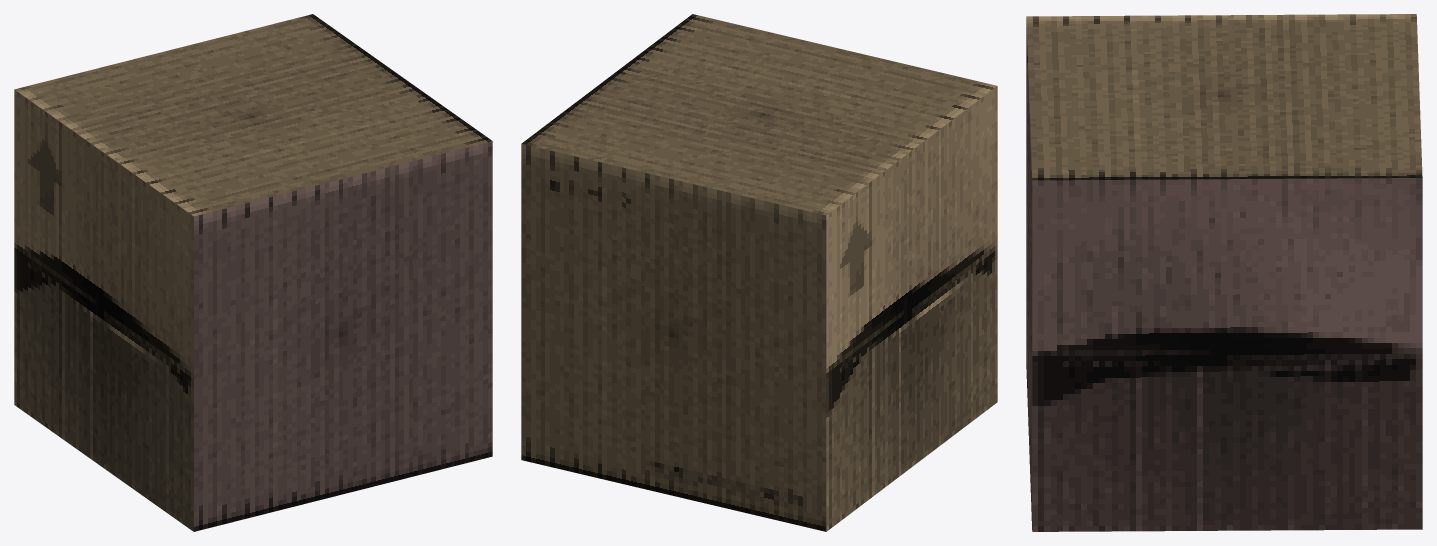
The model's file is primary_086.glb.
The picture shows the model from 3 angles, left to right: view 1: azimuth 30°, elevation 25°; view 2: azimuth 150°, elevation 25°; view 3: azimuth 270°, elevation 25°; orthographic projection. The views are drawn at different scales.
Visible parts, largest first — view 1: Object; view 2: Object; view 3: Object.
Part boxes in pixels (x1,y1,x2,y2): Object: (14, 14, 492, 531); Object: (521, 14, 997, 531); Object: (1026, 14, 1422, 531).
Size of the model in its own units: 1.11 by 1.09 by 1.12.
7 materials, 7 textured.
